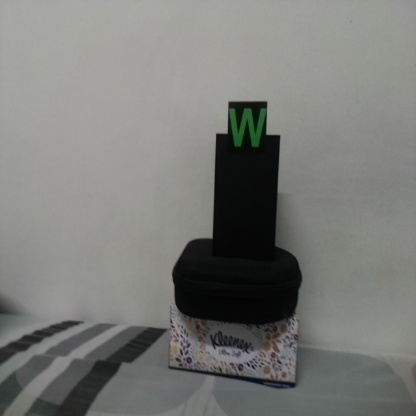id_12: (228, 102, 267, 157)
